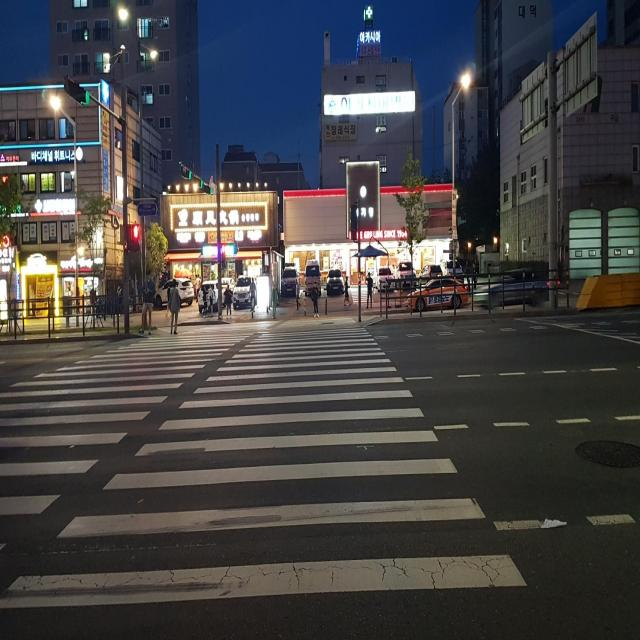횡단보도: (0, 326, 529, 611)
